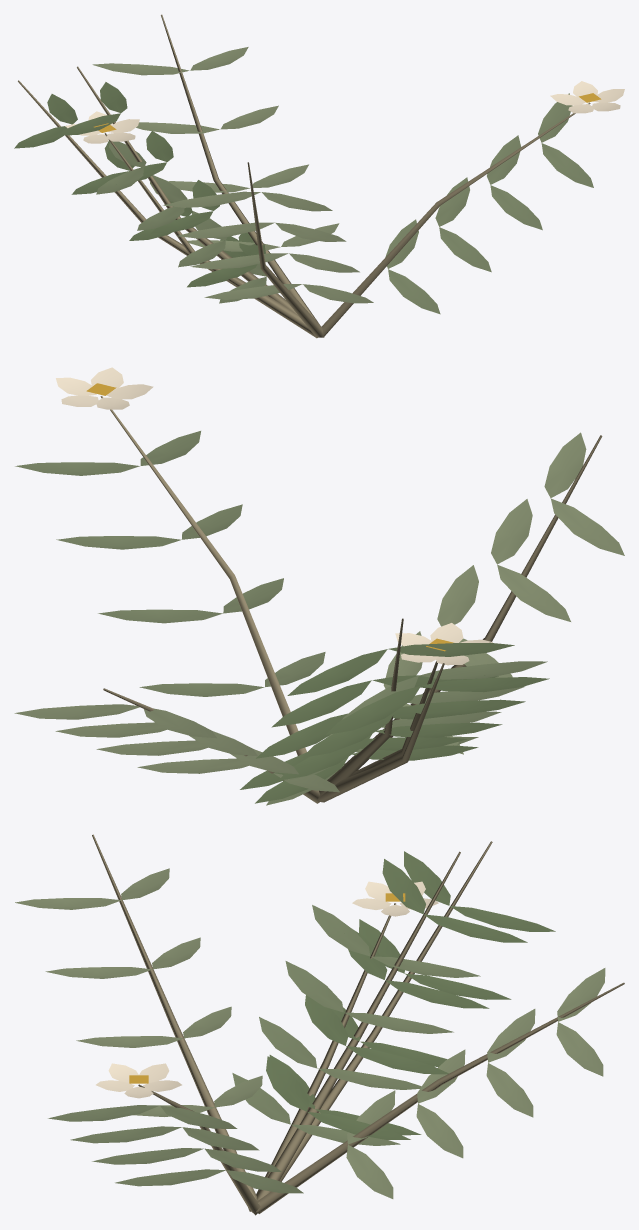
File: CisteSauge_0_Low.fbx
The picture shows the model from 3 angles, top to bottom: view 1: azimuth 30°, elevation 25°; view 2: azimuth 150°, elevation 25°; view 3: azimuth 270°, elevation 25°; orthographic projection. The views are drawn at different scales.
Visible parts, largest first — view 1: CisteSauge_0_Low; view 2: CisteSauge_0_Low; view 3: CisteSauge_0_Low.
Part boxes in pixels (x1=…): CisteSauge_0_Low: x1=14, y1=14, x2=624, y2=338; CisteSauge_0_Low: x1=14, y1=367, x2=624, y2=805; CisteSauge_0_Low: x1=15, y1=834, x2=624, y2=1215.
Size of the model in its own units: 80.24 by 40.85 by 75.44.
